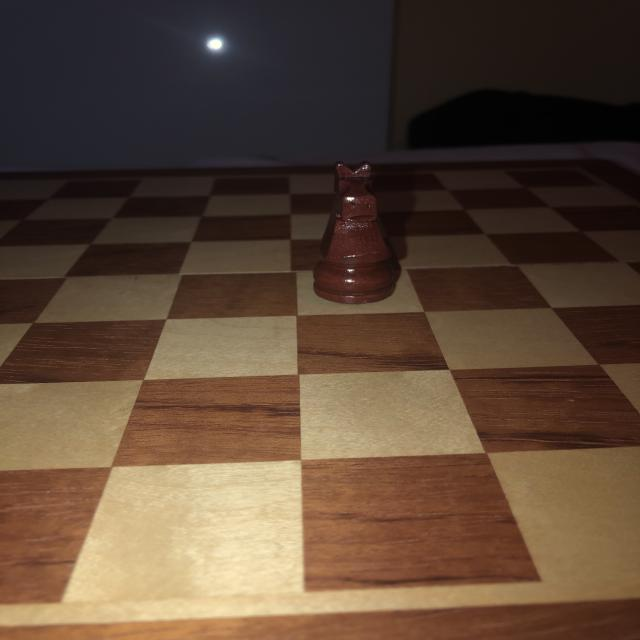black_knight: (312, 160, 401, 307)
